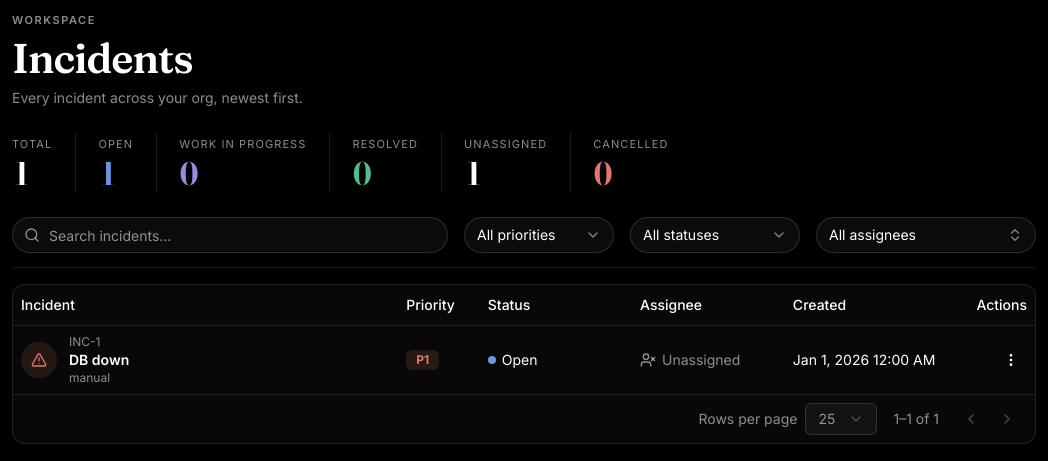
Test: IncidentsListPage — row actions menu › hides edit/delete menu items for a VIEWER but keeps View
The image size is (1048, 461).
Click the button named "More options".
click(1011, 360)  # box [995,344,1027,376]
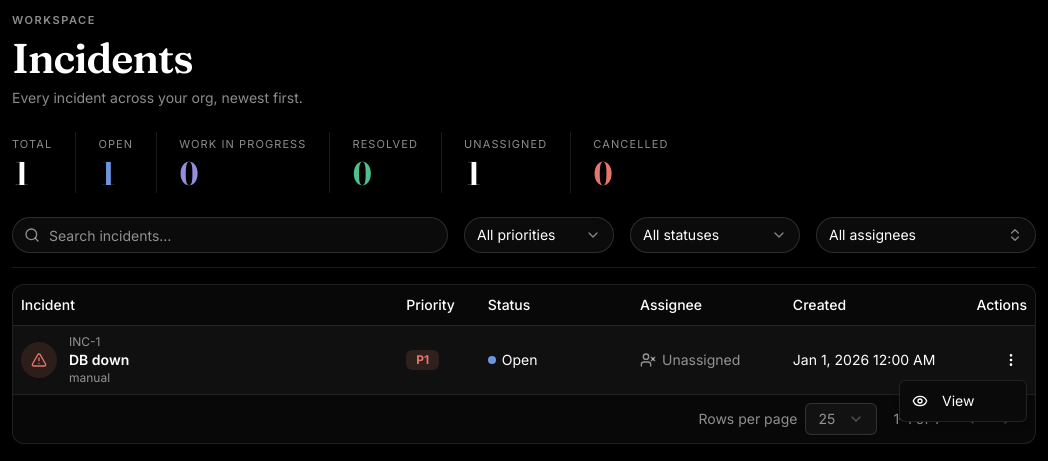
Now the menu item "View" is shown, box [912,392,974,409]
